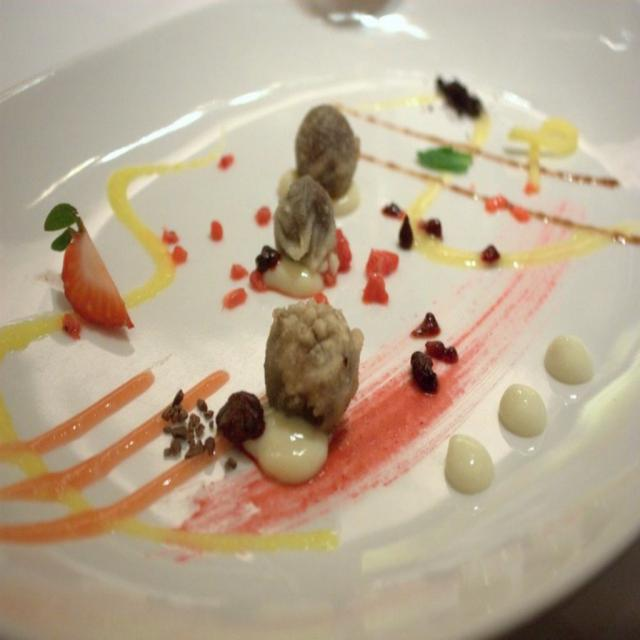non-organic waste: (9, 8, 640, 636)
